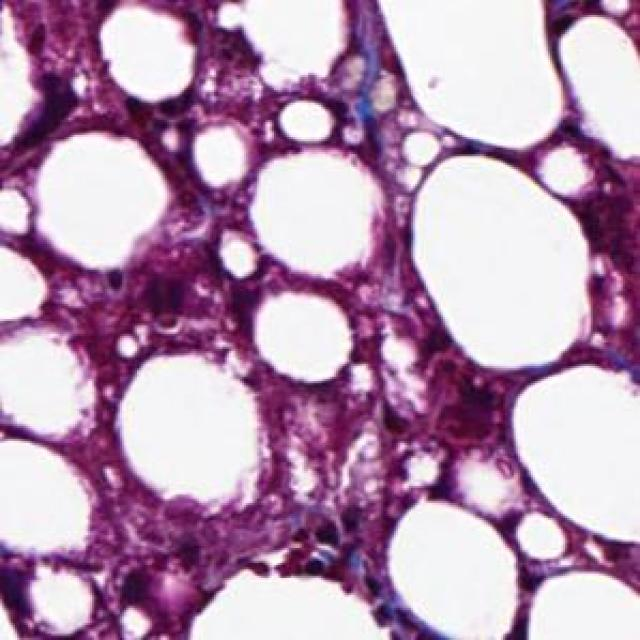inflammation: (266, 495, 370, 580)
